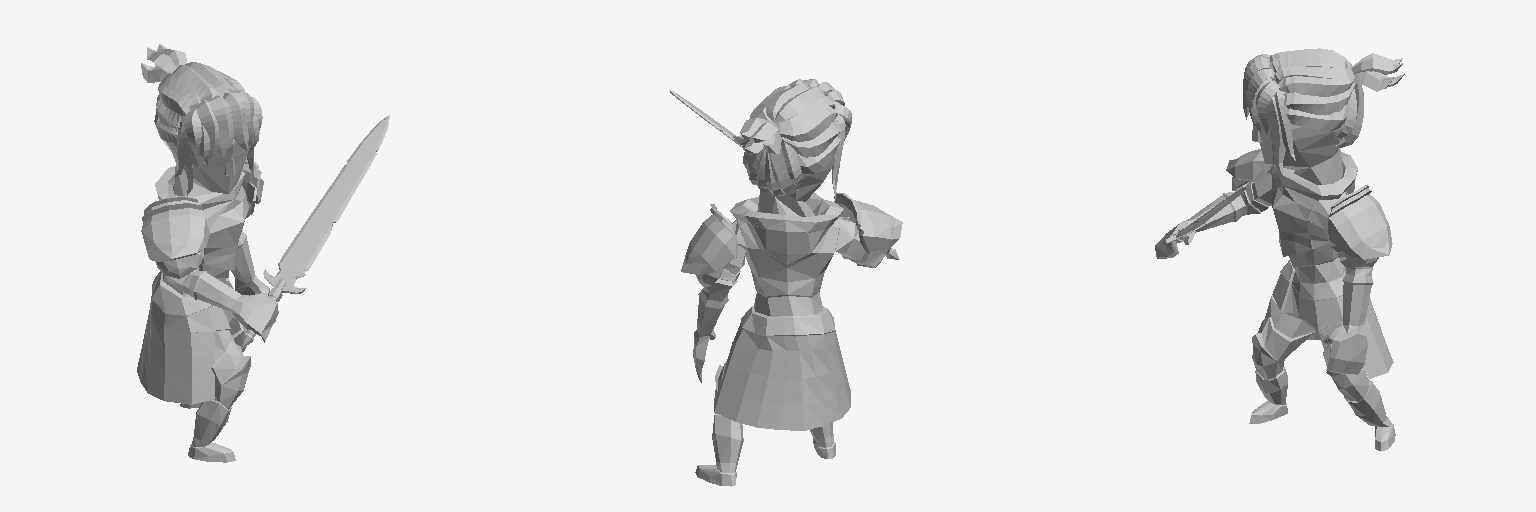
3 renders of one model, left to right at view 1: azimuth 30°, elevation 25°; view 2: azimuth 150°, elevation 25°; view 3: azimuth 270°, elevation 25°, orthographic.
Visible parts, largest first — view 1: Warrior.002__ncl1_29.005, Face__ncl1_29.002, Warrior_Sword_Cylinder.001, Shoulder.R__ncl1_29.001, Shoulder.L__ncl1_29.000; view 2: Warrior.002__ncl1_29.005, Face__ncl1_29.002, Shoulder.L__ncl1_29.000, Shoulder.R__ncl1_29.001, Warrior_Sword_Cylinder.001; view 3: Warrior.002__ncl1_29.005, Face__ncl1_29.002, Shoulder.L__ncl1_29.000, Shoulder.R__ncl1_29.001, Warrior_Sword_Cylinder.001.
Part boxes in pixels (bbox=[...]): Warrior.002__ncl1_29.005: bbox=[137, 116, 278, 462]; Face__ncl1_29.002: bbox=[141, 44, 262, 195]; Warrior_Sword_Cylinder.001: bbox=[242, 115, 389, 346]; Shoulder.R__ncl1_29.001: bbox=[141, 196, 209, 278]; Shoulder.L__ncl1_29.000: bbox=[242, 157, 263, 217]; Warrior.002__ncl1_29.005: bbox=[693, 121, 886, 486]; Face__ncl1_29.002: bbox=[733, 79, 851, 198]; Shoulder.L__ncl1_29.000: bbox=[681, 204, 737, 286]; Shoulder.R__ncl1_29.001: bbox=[834, 192, 902, 253]; Warrior_Sword_Cylinder.001: bbox=[669, 90, 899, 259]; Warrior.002__ncl1_29.005: bbox=[1155, 112, 1395, 451]; Face__ncl1_29.002: bbox=[1243, 48, 1404, 174]; Shoulder.L__ncl1_29.000: bbox=[1328, 185, 1392, 266]; Shoulder.R__ncl1_29.001: bbox=[1226, 149, 1272, 191]; Warrior_Sword_Cylinder.001: bbox=[1165, 187, 1246, 243].
Bounding box in the file's own units: 1.87 × 2.83 × 1.74.